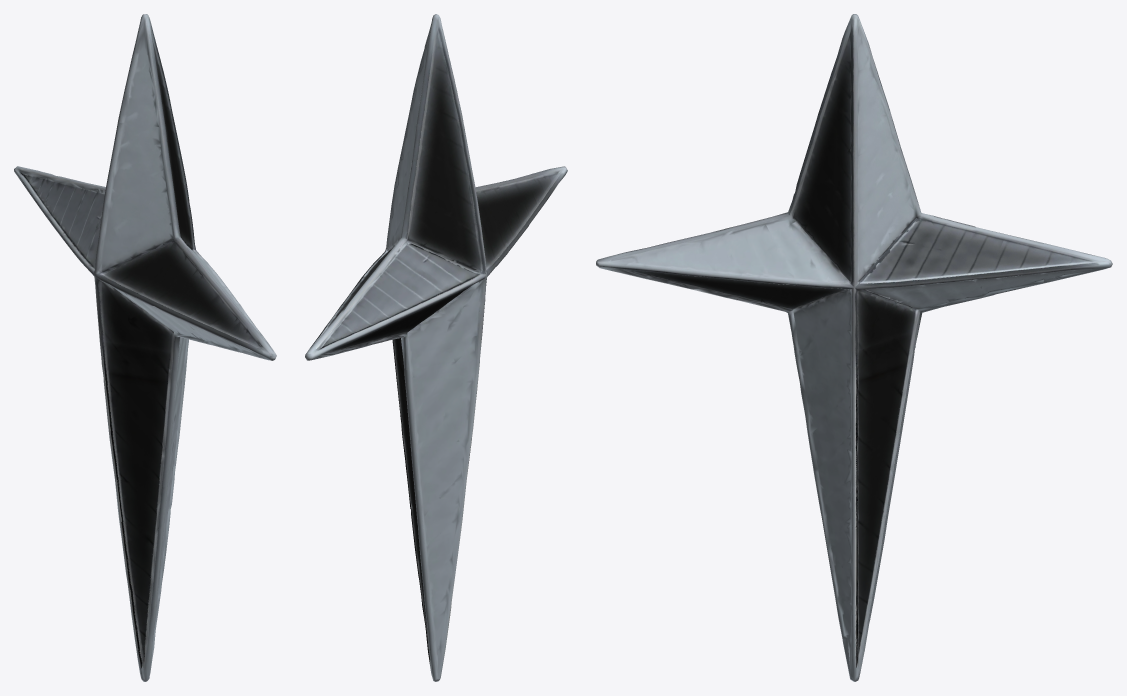
Rendered from star-lite.glb.
3 views of the same model, side by side, from view 1: azimuth 30°, elevation 25°; view 2: azimuth 150°, elevation 25°; view 3: azimuth 270°, elevation 25° (orthographic).
Parts seen in each view (by area): view 1: tripo_node_aa0e5414-e3ff-4f7e-ab17-f10b4371bfc3; view 2: tripo_node_aa0e5414-e3ff-4f7e-ab17-f10b4371bfc3; view 3: tripo_node_aa0e5414-e3ff-4f7e-ab17-f10b4371bfc3.
Part boxes in pixels (left/top/right/bottom): tripo_node_aa0e5414-e3ff-4f7e-ab17-f10b4371bfc3: left=14, top=14, right=276, bottom=681; tripo_node_aa0e5414-e3ff-4f7e-ab17-f10b4371bfc3: left=305, top=14, right=567, bottom=681; tripo_node_aa0e5414-e3ff-4f7e-ab17-f10b4371bfc3: left=596, top=14, right=1112, bottom=681.
Size of the model in its own units: 0.158 by 0.9993 by 0.7016.
Materials: 1 (1 with a texture image).
